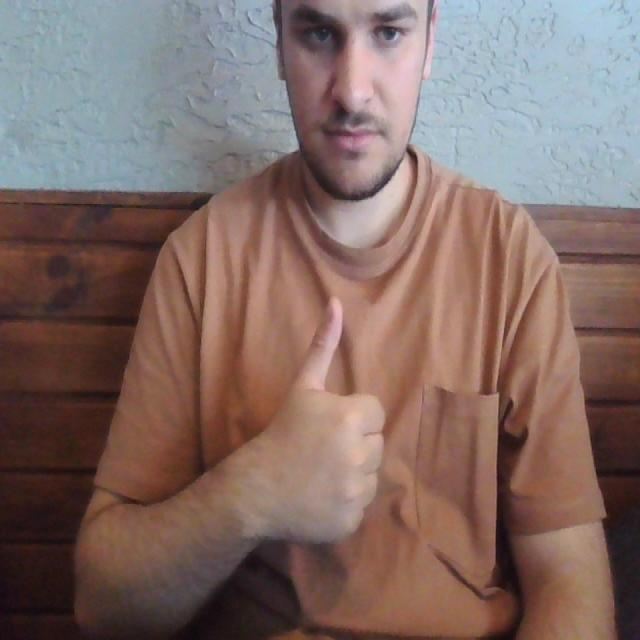Tamam: (246, 289, 390, 554)
